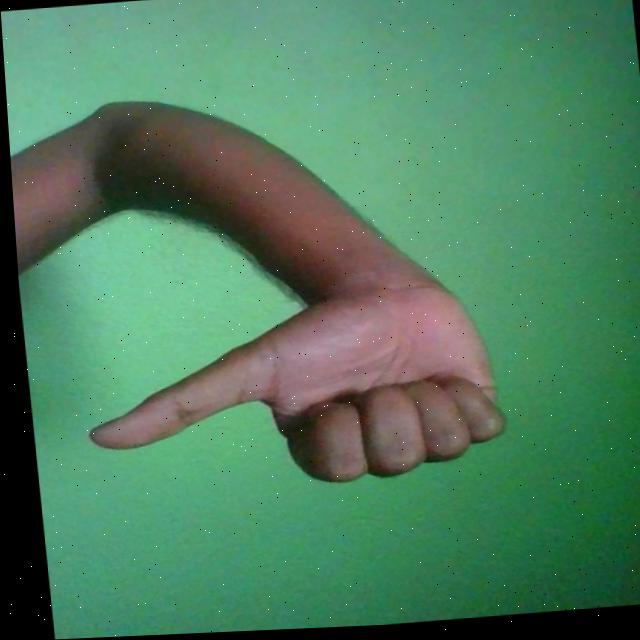Dislike: (68, 272, 507, 504)
